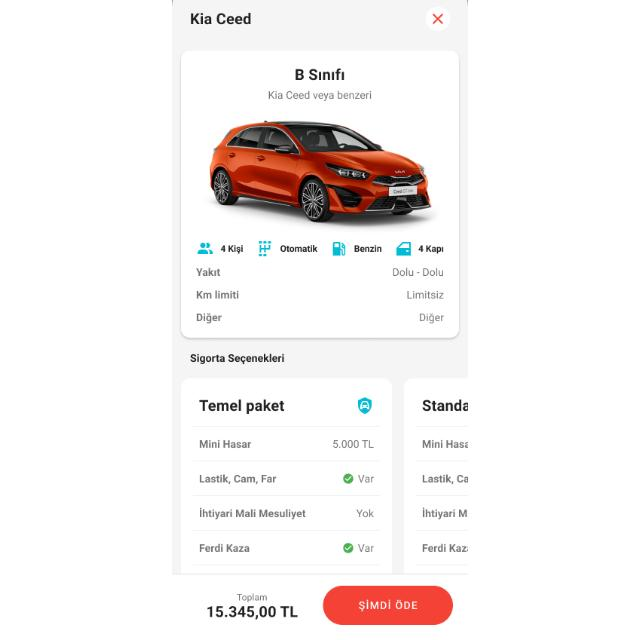QLabel: (196, 506, 308, 522), (188, 352, 288, 366), (266, 89, 372, 101), (197, 398, 287, 412), (207, 605, 297, 619), (185, 11, 253, 27), (419, 396, 468, 414), (196, 474, 278, 484), (292, 68, 346, 82), (358, 599, 420, 611), (194, 290, 242, 302), (197, 543, 251, 553), (420, 472, 468, 483), (196, 439, 254, 448), (393, 268, 445, 278), (420, 439, 468, 449), (420, 508, 468, 518), (422, 542, 468, 552), (407, 290, 445, 300), (332, 439, 374, 448), (280, 244, 318, 253), (236, 592, 268, 602), (195, 312, 221, 324), (420, 312, 446, 324), (195, 267, 221, 279), (352, 244, 382, 253), (219, 244, 245, 253), (418, 245, 444, 253), (356, 508, 374, 518), (356, 473, 374, 482), (358, 544, 374, 552)
VBtn: (322, 584, 453, 626)
VCard: (180, 50, 460, 340), (180, 378, 394, 572), (402, 376, 468, 572)
VDivider: (192, 494, 382, 498), (191, 528, 381, 532), (190, 425, 382, 427), (191, 460, 381, 462), (192, 564, 382, 566), (414, 424, 468, 428), (414, 494, 468, 498), (414, 528, 468, 532), (414, 564, 468, 566), (416, 460, 468, 462)
VFooter: (172, 574, 468, 640)
VIcon: (427, 6, 451, 32), (329, 240, 347, 258), (395, 240, 413, 258), (255, 240, 272, 256), (358, 396, 372, 414), (196, 241, 214, 255), (343, 473, 353, 483), (343, 543, 353, 553)
VImg: (204, 113, 441, 227)
